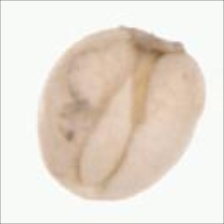L5: (74, 63, 153, 187), (110, 22, 190, 66)
L6: (31, 25, 208, 202)
